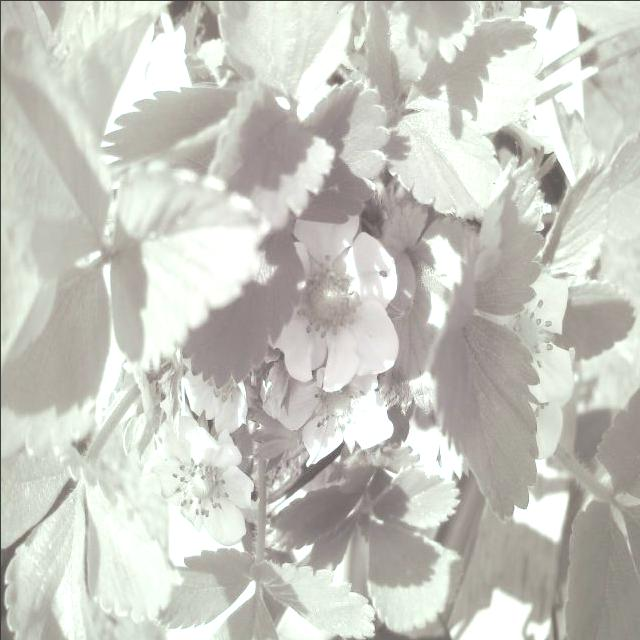flower: (265, 203, 425, 388), (269, 362, 414, 482), (132, 429, 266, 556), (506, 232, 594, 424), (160, 354, 266, 422)
